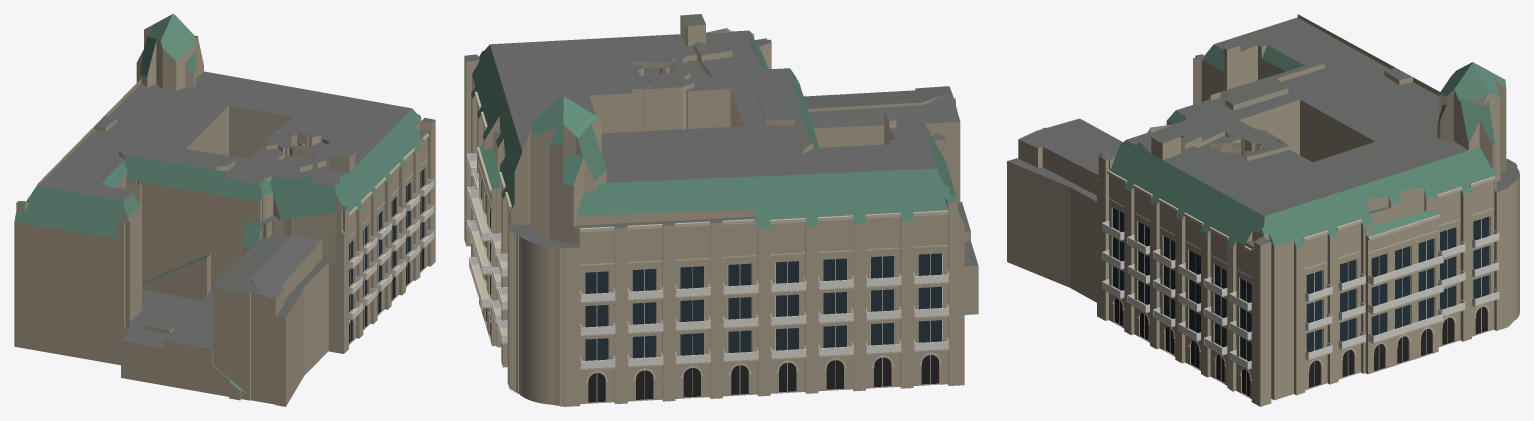
File: recipe-large-hirschpassage-2-165488.glb
3 views of the same model, side by side, from view 1: azimuth 30°, elevation 25°; view 2: azimuth 150°, elevation 25°; view 3: azimuth 270°, elevation 25° (orthographic). The views are drawn at different scales.
Parts seen in each view (by area): view 1: hirschpassage-2-165488; view 2: hirschpassage-2-165488; view 3: hirschpassage-2-165488.
Part boxes in pixels (x1,y1,x2,y2): hirschpassage-2-165488: (14, 14, 435, 406); hirschpassage-2-165488: (464, 14, 978, 406); hirschpassage-2-165488: (1007, 14, 1519, 406).
Size of the model in its own units: 73.72 by 38.57 by 71.43.
